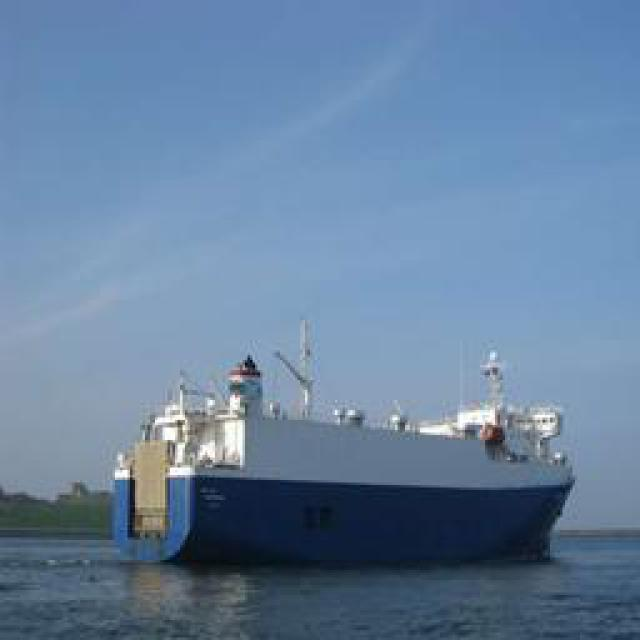Ship: (115, 320, 578, 565)
